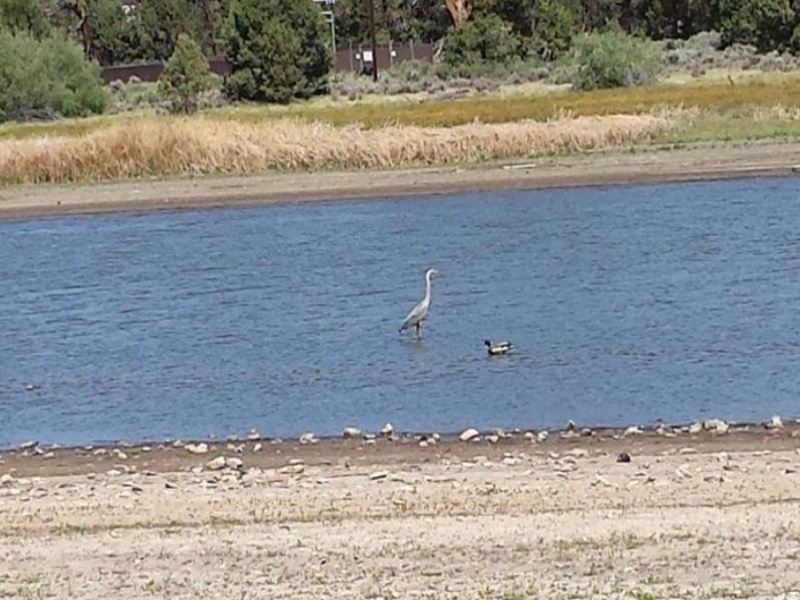heron: (400, 265, 439, 337)
